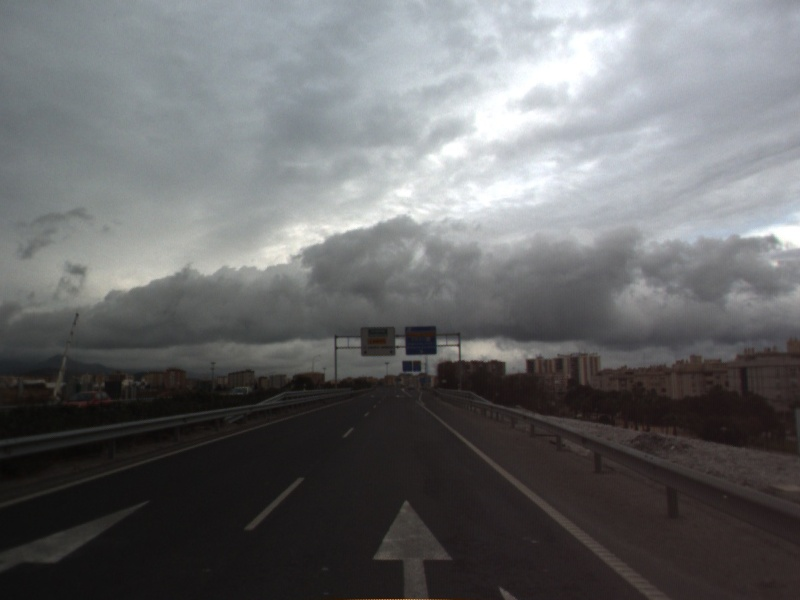STRAIGHT: (1, 496, 157, 576), (368, 495, 457, 600)
